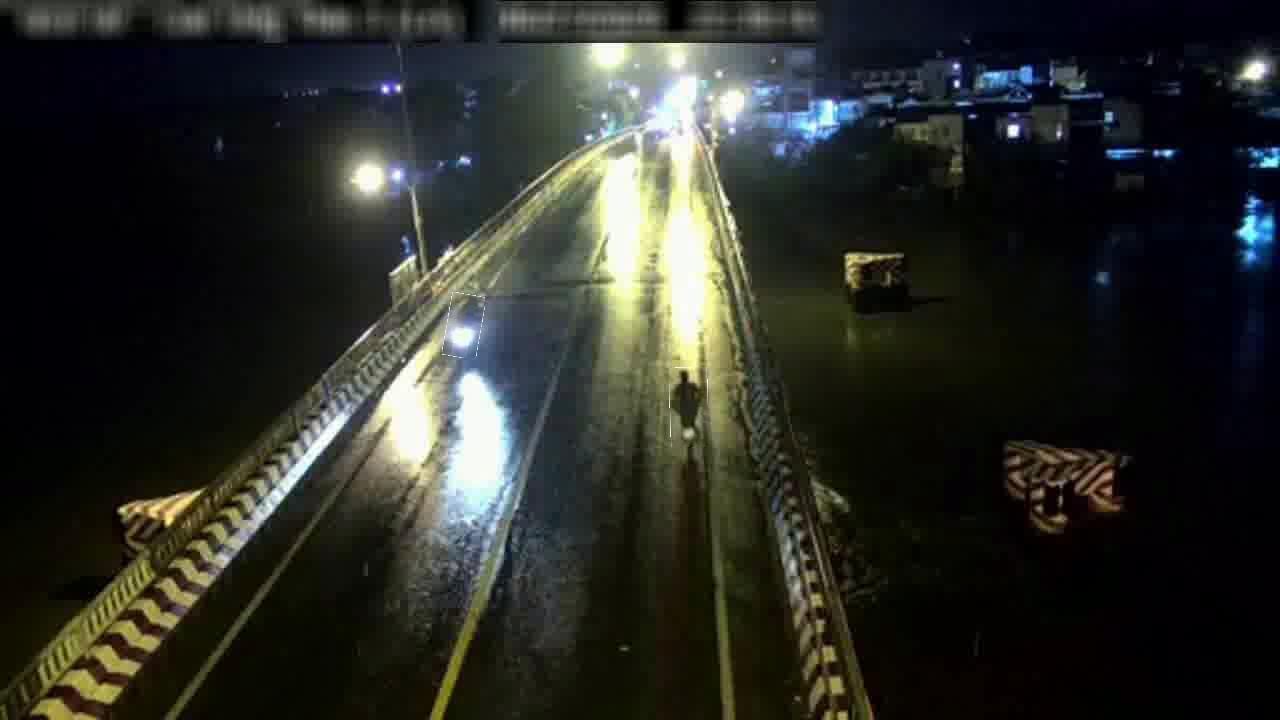motorbike: (670, 368, 708, 448), (444, 293, 484, 358)
